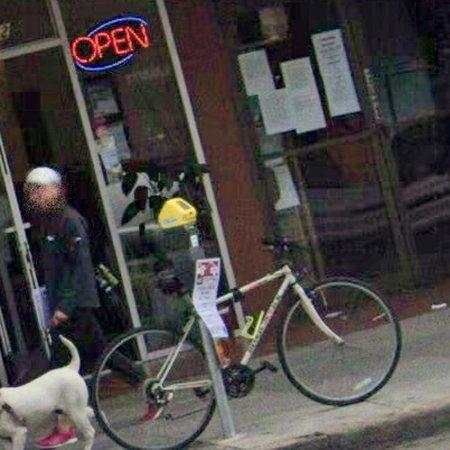bicycles: (93, 266, 403, 450)
